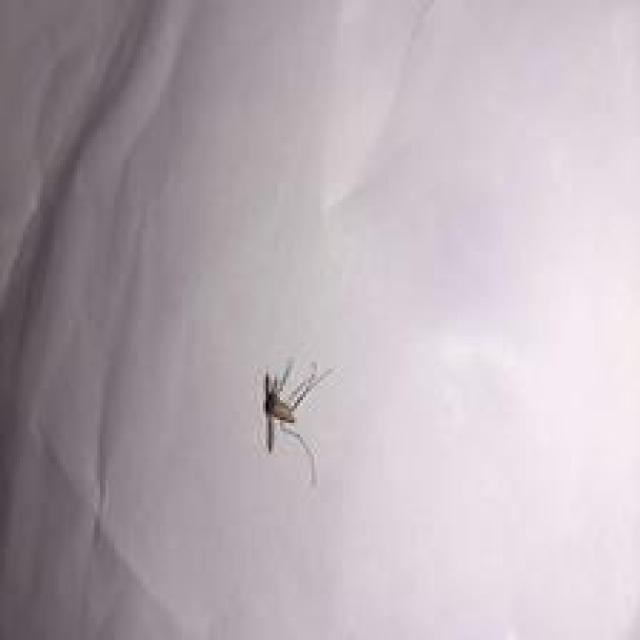Culex: (260, 356, 334, 487)
